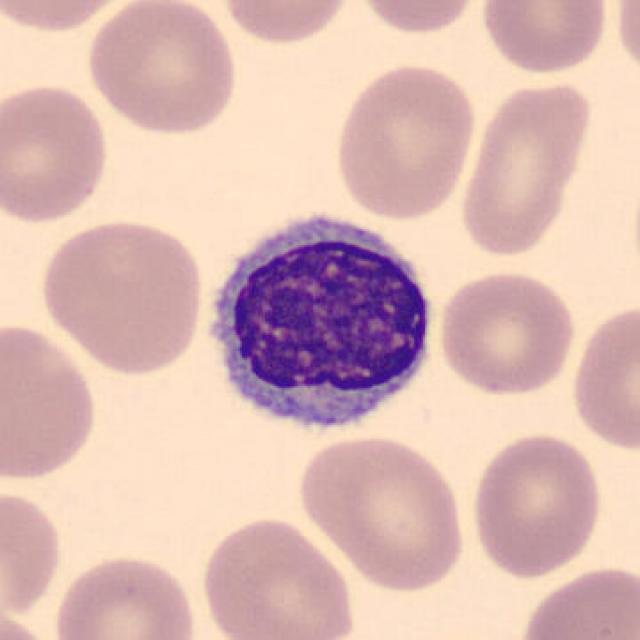Lymphocyte: (192, 199, 444, 450)
RBC: (292, 430, 471, 594), (36, 215, 208, 377), (455, 74, 596, 261), (331, 60, 480, 222), (82, 0, 242, 138), (468, 428, 606, 580), (195, 513, 358, 640), (434, 266, 578, 398), (0, 317, 101, 486), (2, 78, 114, 226), (48, 550, 201, 640), (567, 298, 640, 455), (476, 0, 612, 78), (512, 562, 638, 640), (0, 483, 66, 621), (217, 0, 355, 48), (348, 0, 484, 39), (1, 0, 138, 35), (610, 0, 640, 88), (0, 601, 60, 640)
